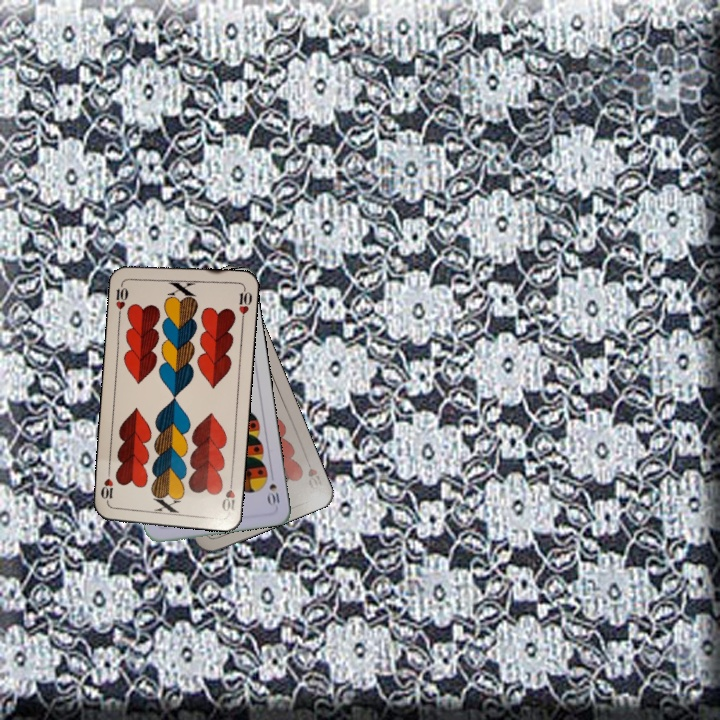H10: (112, 277, 131, 318), (218, 474, 237, 514), (304, 464, 321, 493)
S10: (264, 469, 283, 509)
